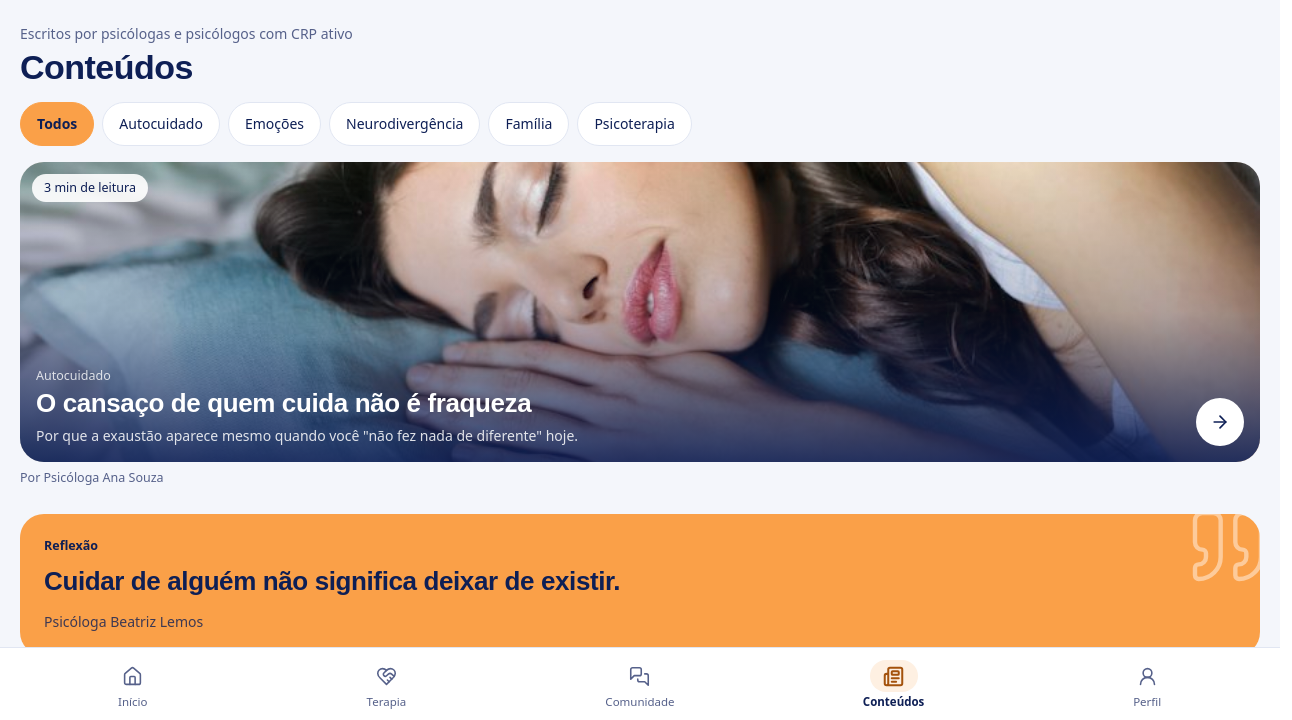
Test: Conteúdos em formatos variados › uma reflexão abre com a frase como título e o aviso ético
This screenshot has width=1292, height=720.
What coordinates should you click on to do the following:
click the button "Cuidar de alguém não significa deixar de existir"
I would click on:
 (640, 585)
Its box is left=20, top=514, right=1260, bottom=656.
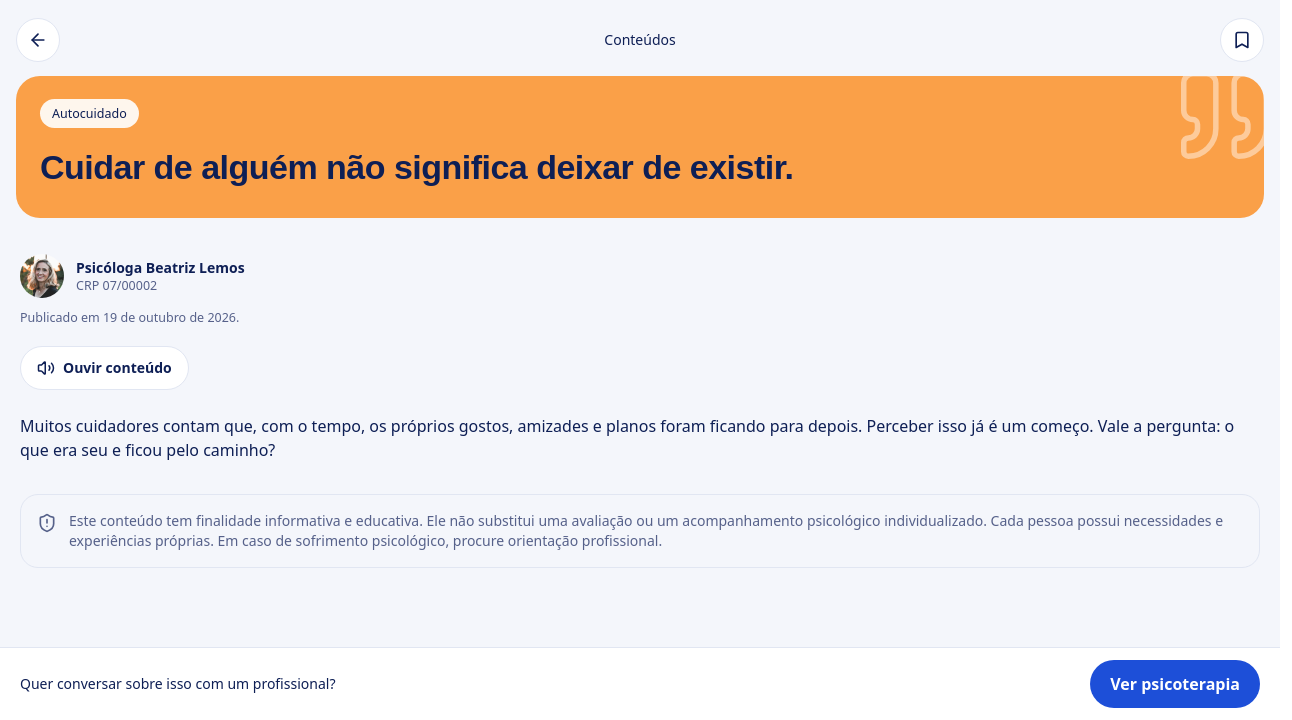
Result: the heading "Cuidar de alguém não significa deixar de existir." is shown at left=40, top=148, right=794, bottom=186
Result: the text "Este conteúdo tem finalidade informativa e educativa. Ele não substitui uma avaliação ou um acompanhamento psicológico i" is shown at left=69, top=511, right=1223, bottom=550
